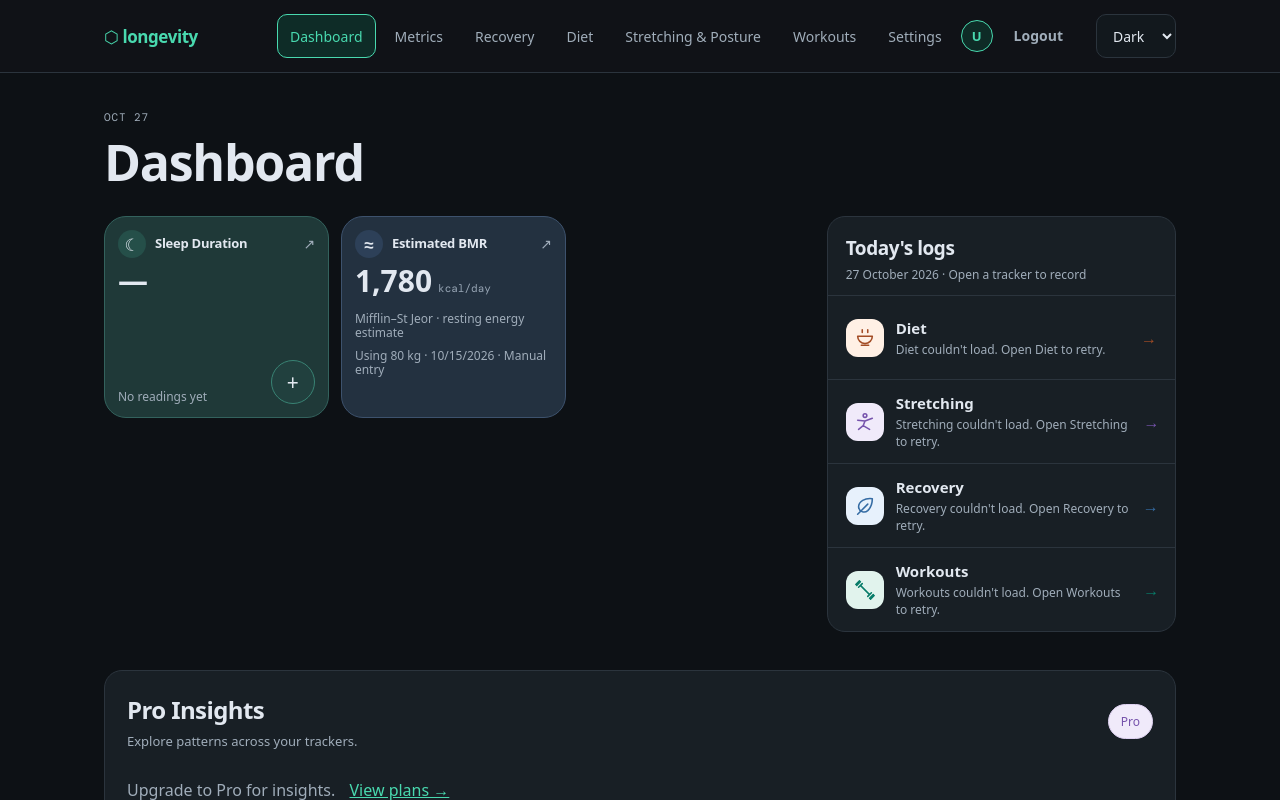
Test: dashboard route › rejects a manual sleep wake time that is not later than bedtime
The image size is (1280, 800).
Check: the heading "Dashboard" is shown, box x1=104 y1=128 x2=364 y2=196
Click the button named "add sleep duration entry" at {"x": 293, "y": 382}, box x1=271 y1=360 x2=315 y2=404
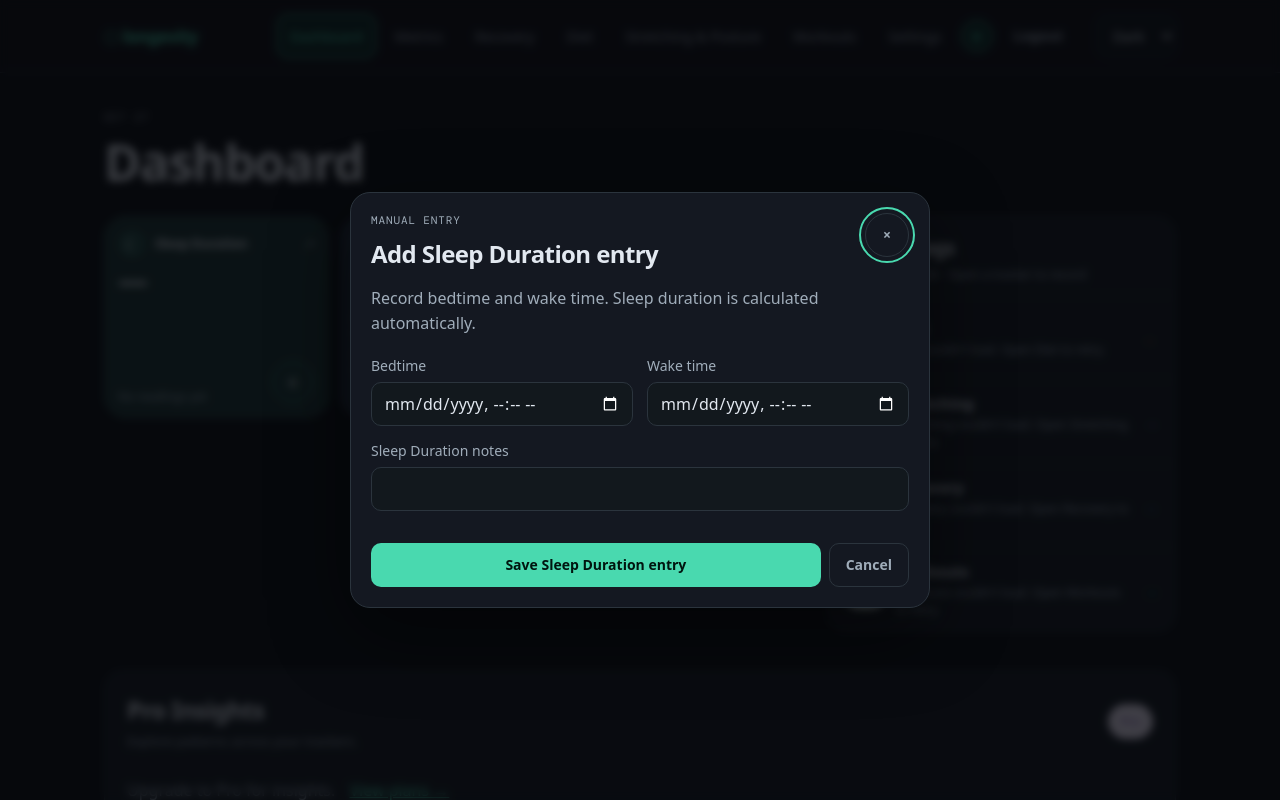
Type "2026-09-19T08:50" into the field labelled "Bedtime" at {"x": 502, "y": 404}, box x1=371 y1=382 x2=633 y2=426
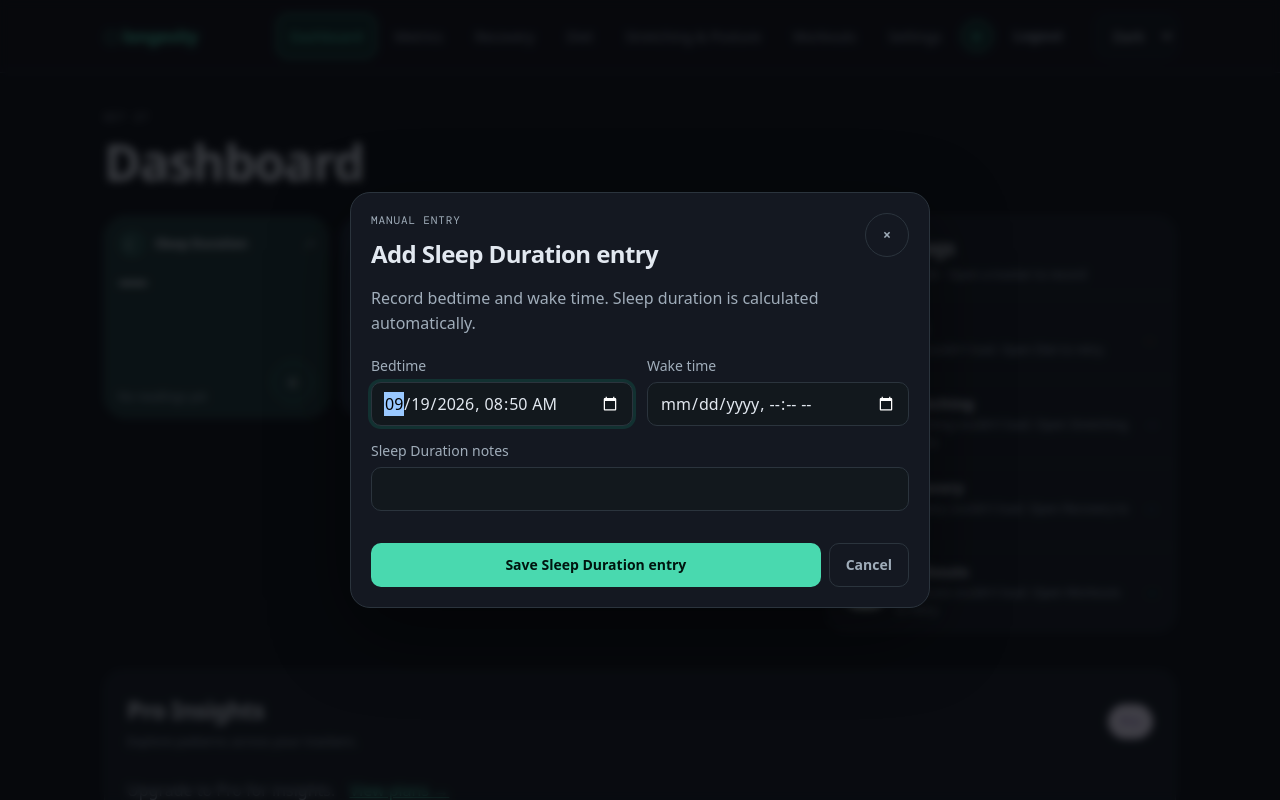
Type "2026-09-19T01:00" into the field labelled "Wake time" at {"x": 778, "y": 404}, box x1=647 y1=382 x2=909 y2=426
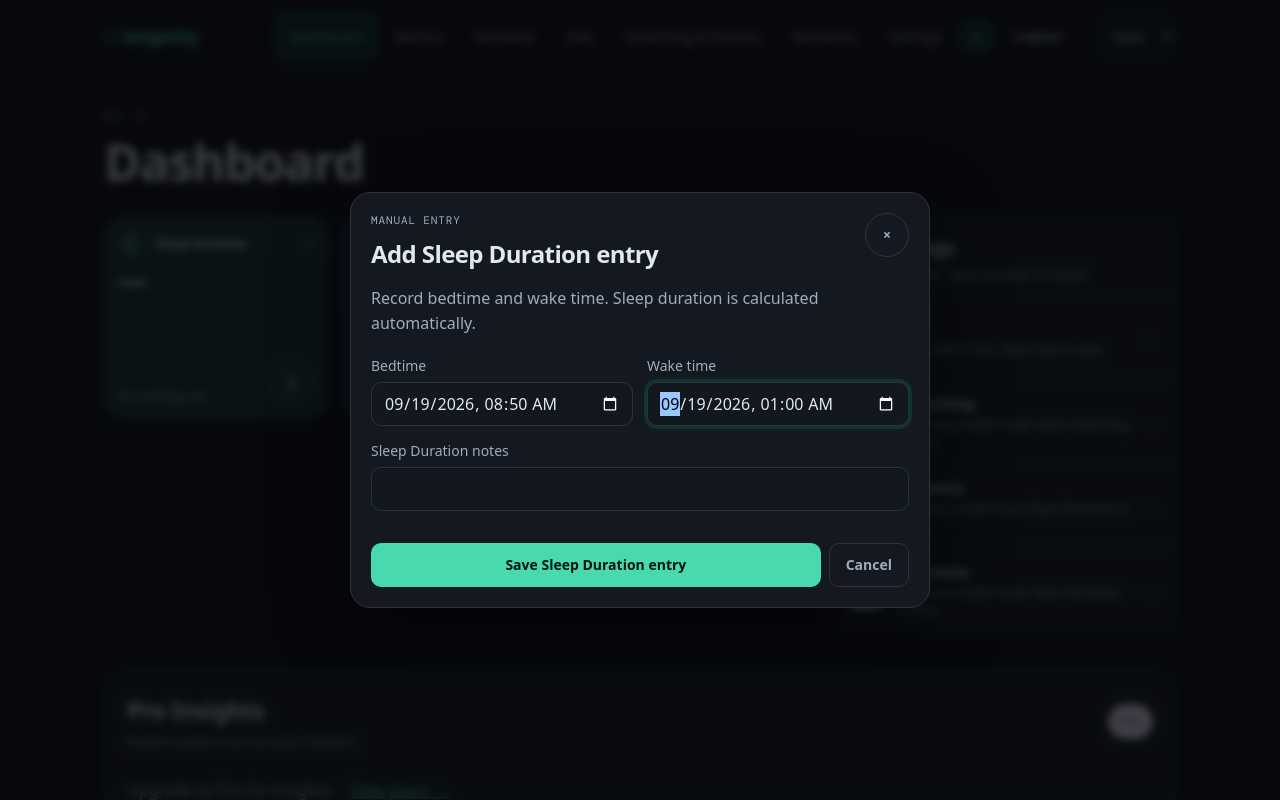
Click the button "Save Sleep Duration entry" at {"x": 596, "y": 565}, box x1=371 y1=543 x2=821 y2=587
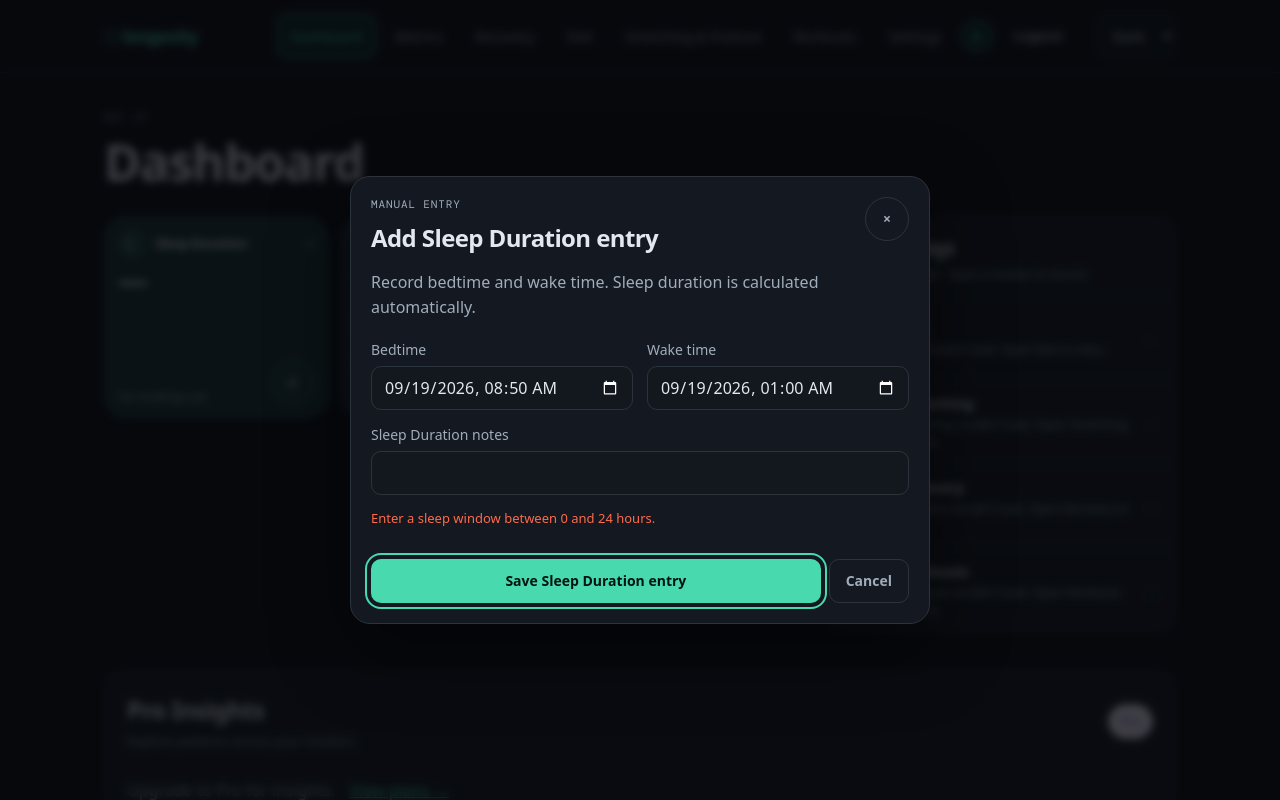
Check: the text "Enter a sleep window between 0 and 24 hours." is shown, box x1=371 y1=509 x2=655 y2=527
